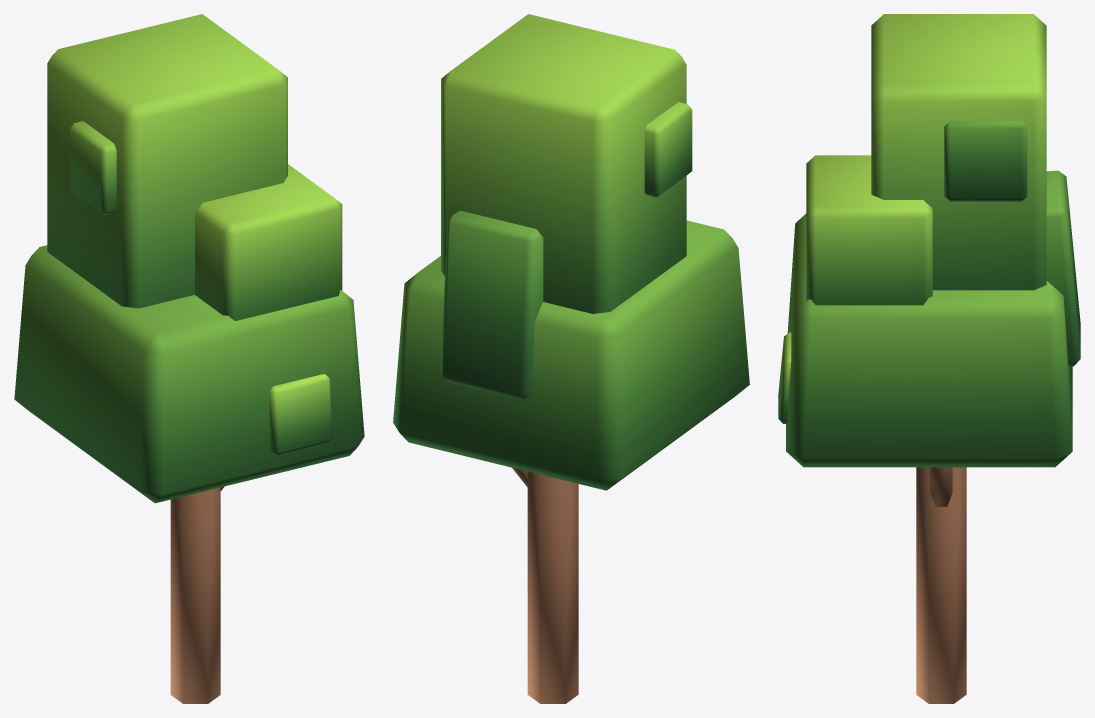
Rendered from Tree02.glb.
The picture shows the model from 3 angles, left to right: view 1: azimuth 30°, elevation 25°; view 2: azimuth 150°, elevation 25°; view 3: azimuth 270°, elevation 25°; orthographic projection.
Parts seen in each view (by area): view 1: Tree02; view 2: Tree02; view 3: Tree02.
Part boxes in pixels (box(x1,y1,x2,y2)): Tree02: box(14, 14, 364, 703); Tree02: box(393, 14, 749, 703); Tree02: box(778, 14, 1080, 703).
Size of what is drawn, in the model's own units: 0.7739 by 2.09 by 0.8988.
Materials: 1 (1 with a texture image).
